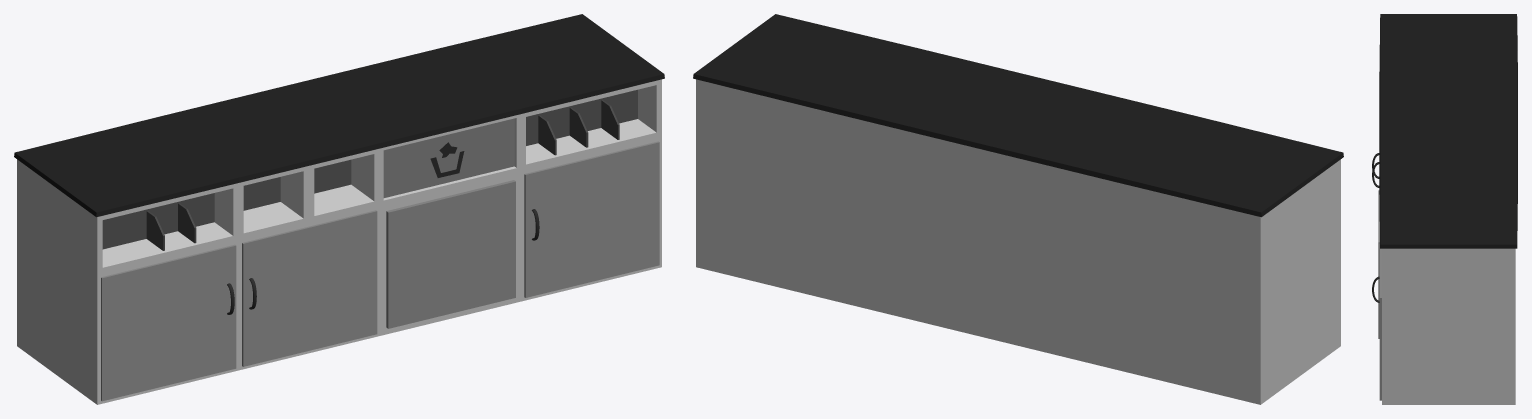
Rendered from Med Food Counter w_Garbage Grey.fbx.
The picture shows the model from 3 angles, left to right: view 1: azimuth 30°, elevation 25°; view 2: azimuth 150°, elevation 25°; view 3: azimuth 270°, elevation 25°; orthographic projection. The views are drawn at different scales.
Visible parts, largest first — view 1: Med Food Counter w_Garbage Grey; view 2: Med Food Counter w_Garbage Grey; view 3: Med Food Counter w_Garbage Grey.
Boxes of the visible parts, <box> form: Med Food Counter w_Garbage Grey: <box>14,14,664,404</box>; Med Food Counter w_Garbage Grey: <box>693,14,1343,404</box>; Med Food Counter w_Garbage Grey: <box>1372,14,1517,404</box>.
Bounding box in the file's own units: 304 × 98.92 × 81.13.
Materials: 1 (1 with a texture image).
